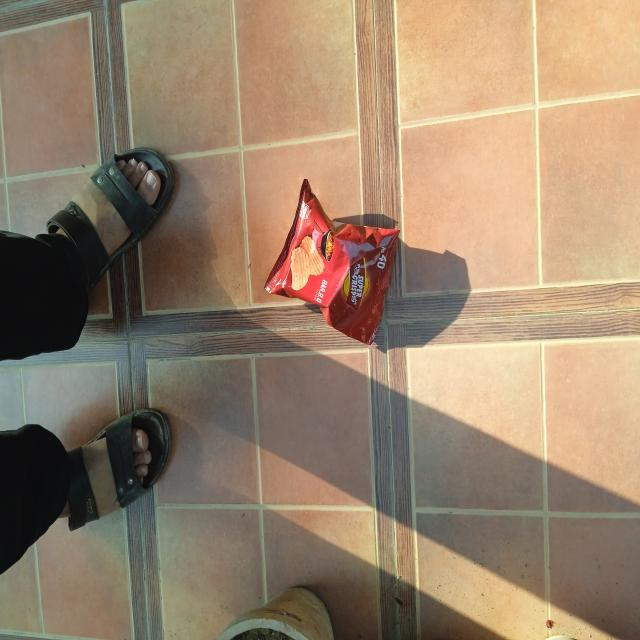Plastic: (264, 180, 401, 344)
